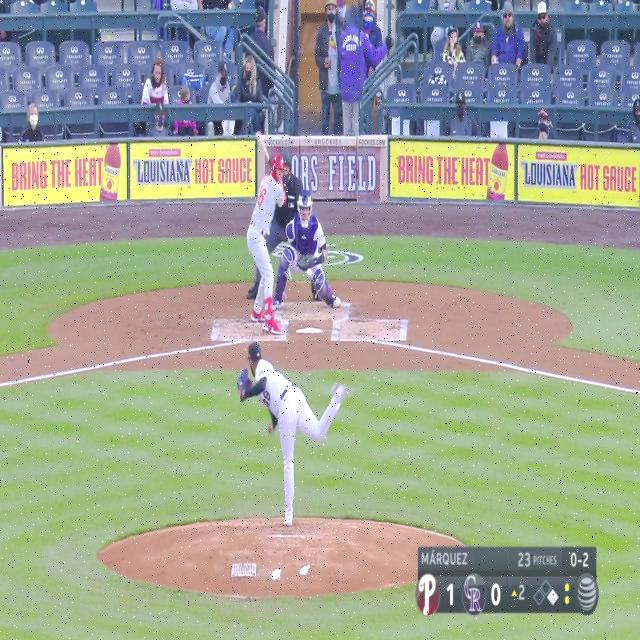baseball: (306, 267, 313, 279)
